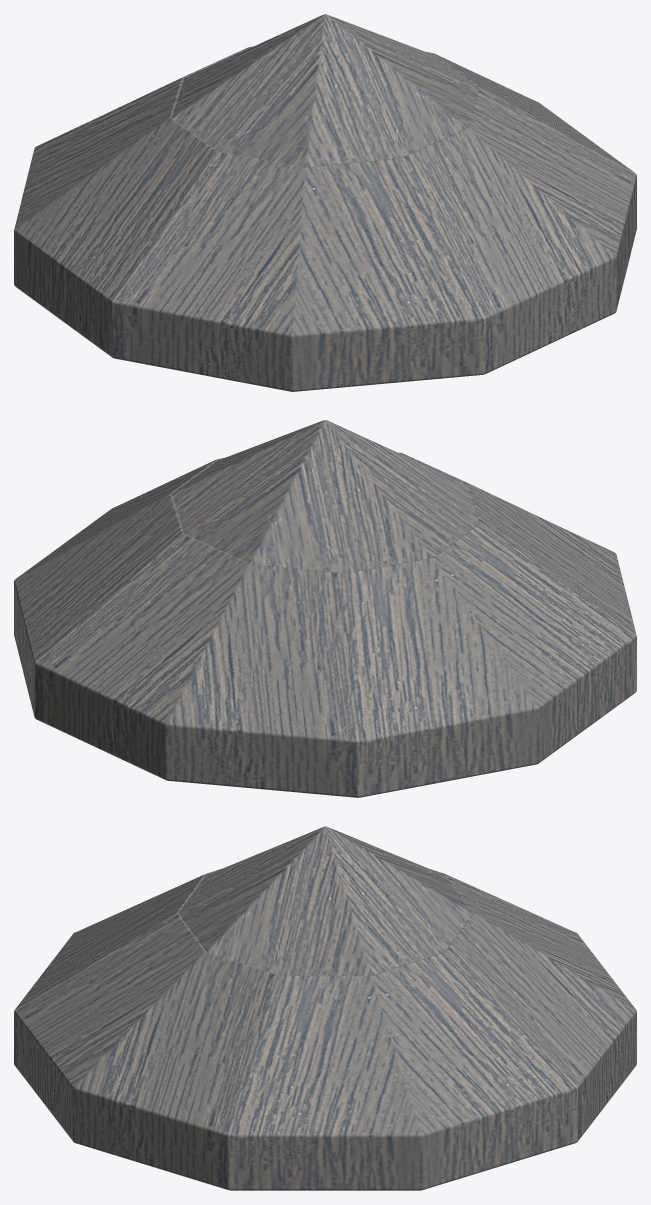
Rendered from GazeboRoofTop.obj.
3 views of the same model, one above another, from view 1: azimuth 30°, elevation 25°; view 2: azimuth 150°, elevation 25°; view 3: azimuth 270°, elevation 25° (orthographic). The views are drawn at different scales.
Visible parts, largest first — view 1: GazeboRoof3; view 2: GazeboRoof3; view 3: GazeboRoof3.
Boxes of the visible parts, <box> form: GazeboRoof3: <box>14,14,636,391</box>; GazeboRoof3: <box>14,420,636,797</box>; GazeboRoof3: <box>14,826,636,1190</box>.
Size of the model in its own units: 476 by 211 by 500.
Materials: 1 (1 with a texture image).
